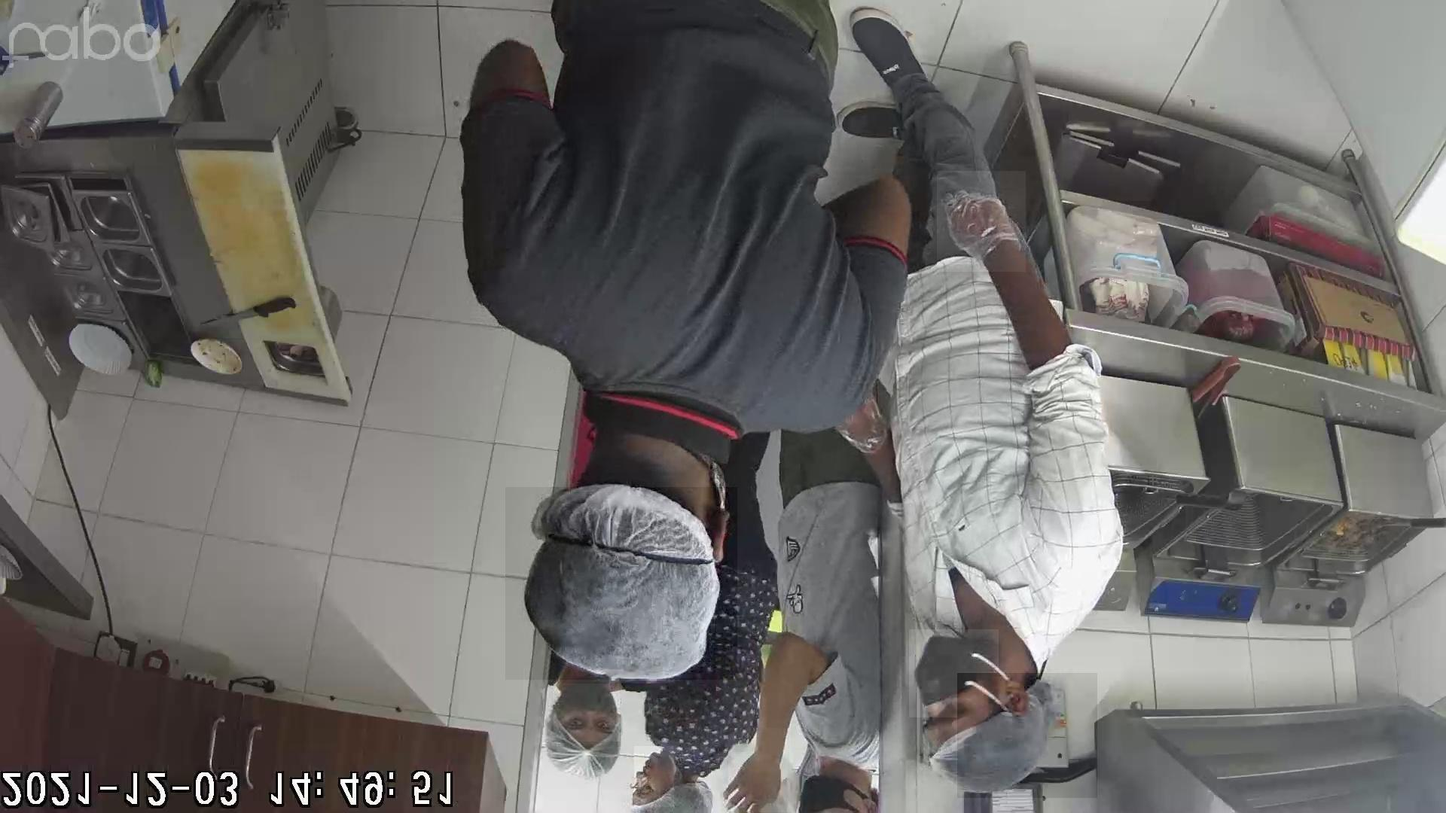apron: (937, 171, 1026, 272)
gloves: (506, 488, 738, 681), (958, 673, 1098, 798)
mask: (909, 629, 999, 717), (794, 748, 880, 813), (554, 684, 621, 741)
no_apron: (729, 729, 791, 813)
no_hairnet: (634, 747, 674, 808)
